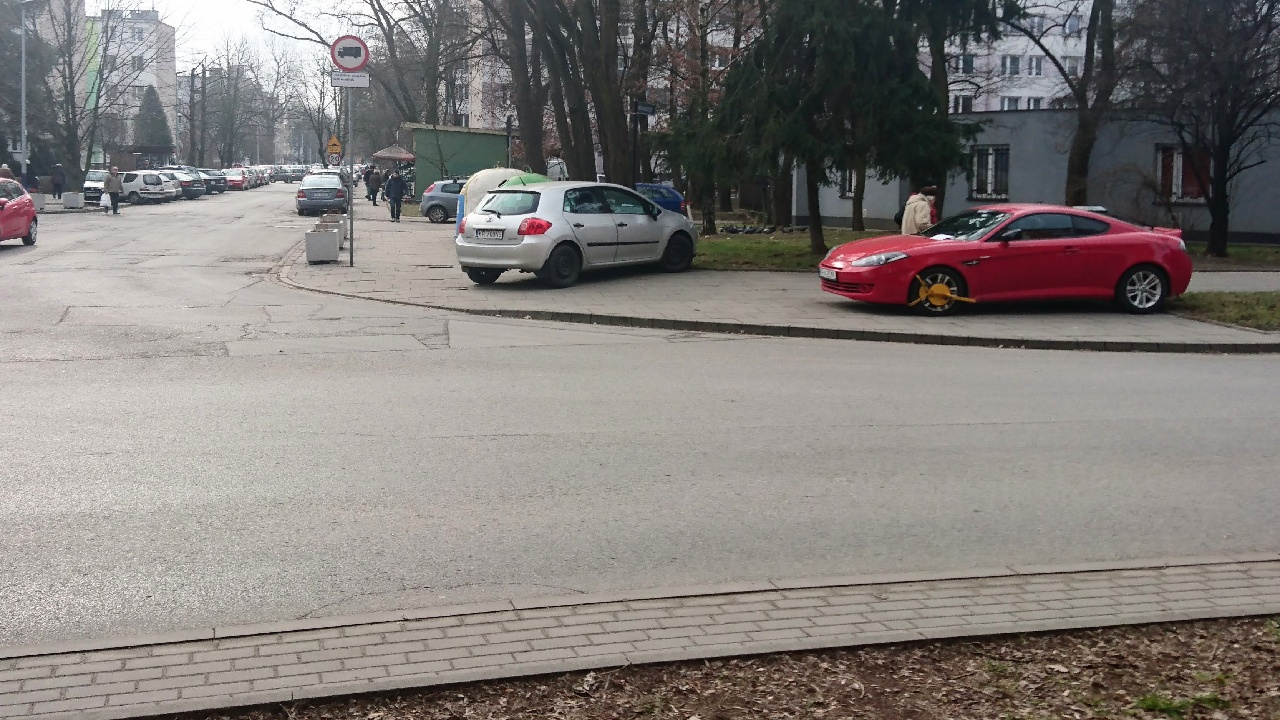B5: (331, 35, 369, 72)
